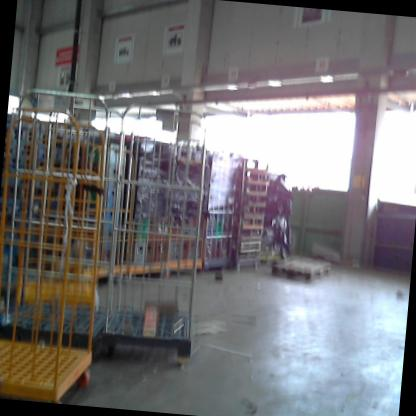pallet: (270, 252, 333, 288)
